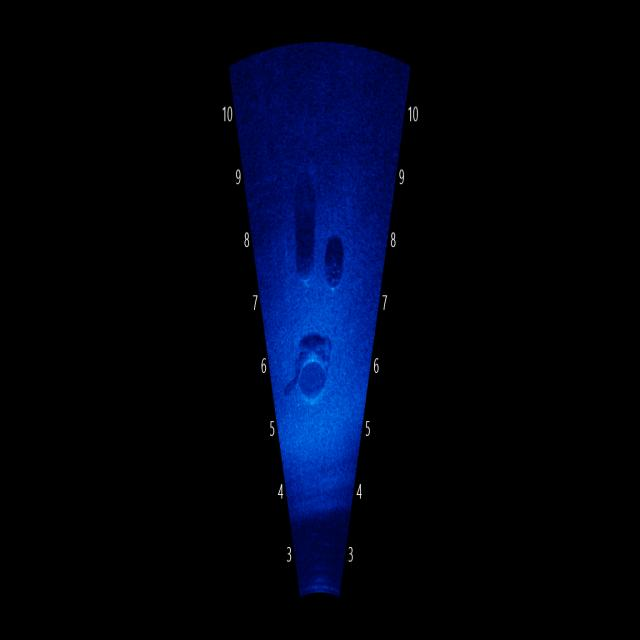circle: (296, 344, 328, 412), (324, 245, 344, 292)
